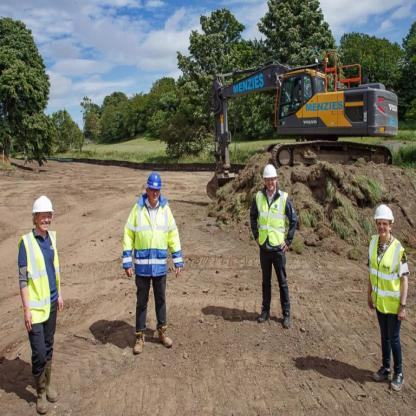excavator: (203, 45, 410, 198)
person: (9, 186, 63, 415), (122, 156, 180, 369), (360, 194, 416, 393), (242, 158, 301, 335)
